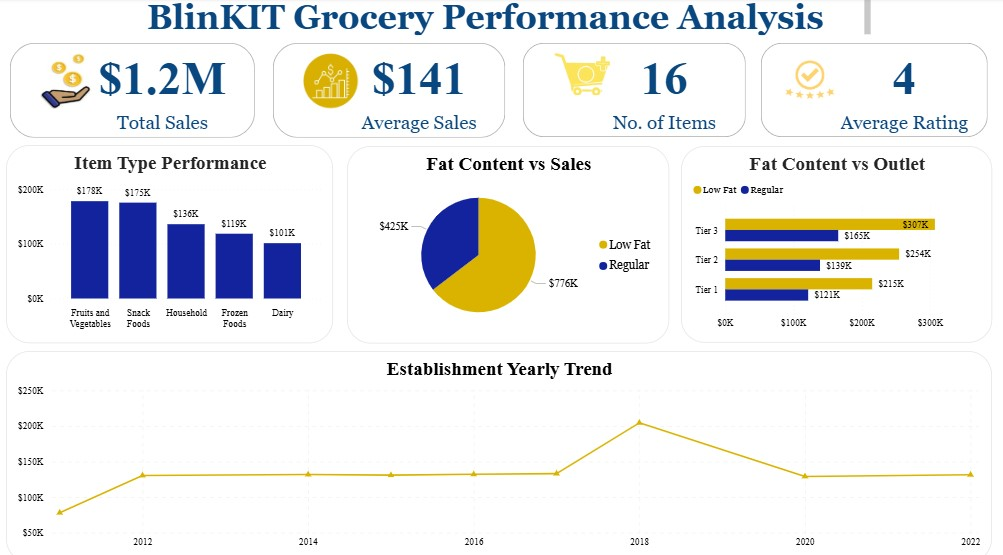

Layout of this report page (visuals, bound fields, positions):
{"tool":"powerbi","page":{"name":"Dashboard 2","canvas":[1280,720],"ordinal":1},"visuals":[{"type":"textbox","box":[132,0,978,57],"z":0},{"type":"cardVisual","fields":{"Data":["BlinkIT Grocery Data (2).Total Sales"]},"box":[10.7,57.3,320,130.7],"z":1000},{"type":"cardVisual","fields":{"Data":["BlinkIT Grocery Data (2).Average Sales"]},"box":[342.7,57.3,304,130.7],"z":2000},{"type":"cardVisual","fields":{"Data":["BlinkIT Grocery Data (2).Average Rating"]},"box":[961.3,57.3,297.3,129.3],"z":3000},{"type":"cardVisual","fields":{"Data":["BlinkIT Grocery Data (2).Number of Items"]},"box":[660,57.3,292,129.3],"z":4000},{"type":"columnChart","title":"Item Type Performance","fields":{"Category":["BlinkIT Grocery Data (2).Item_Type"],"Y":["BlinkIT Grocery Data (2).Total Sales"]},"box":[10.5,190.8,414.5,251.3],"z":5000},{"type":"pieChart","title":" Fat Content vs Sales","fields":{"Y":["BlinkIT Grocery Data (2).Total Sales"],"Category":["BlinkIT Grocery Data (2).Item_Fat_Content"]},"box":[442.1,192.1,407.9,250],"z":6000},{"type":"lineChart","title":"Establishment Yearly Trend","fields":{"Y":["BlinkIT Grocery Data (2).Total Sales"],"Category":["BlinkIT Grocery Data (2).Outlet_Establishment_Year"]},"box":[10.7,452,1248,268],"z":7000},{"type":"clusteredBarChart","title":"Fat Content vs Outlet","fields":{"Y":["BlinkIT Grocery Data (2).Total Sales"],"Category":["BlinkIT Grocery Data (2).Outlet_Location_Type"],"Series":["BlinkIT Grocery Data (2).Item_Fat_Content"]},"box":[864.6,192.4,393.7,249.4],"z":8000}]}

Visuals, with their boxes in screenshot pixels (x1, y1, x2, y2), scaled from the page's 1280x720 canvas onto the 1003x555 screenshot:
textbox: l=103, t=0, r=870, b=44
cardVisual - BlinkIT Grocery Data (2).Total Sales: l=8, t=44, r=259, b=145
cardVisual - BlinkIT Grocery Data (2).Average Sales: l=269, t=44, r=507, b=145
cardVisual - BlinkIT Grocery Data (2).Average Rating: l=753, t=44, r=986, b=144
cardVisual - BlinkIT Grocery Data (2).Number of Items: l=517, t=44, r=746, b=144
"Item Type Performance" columnChart: l=8, t=147, r=333, b=341
" Fat Content vs Sales" pieChart: l=346, t=148, r=666, b=341
"Establishment Yearly Trend" lineChart: l=8, t=348, r=986, b=554
"Fat Content vs Outlet" clusteredBarChart: l=677, t=148, r=986, b=341
